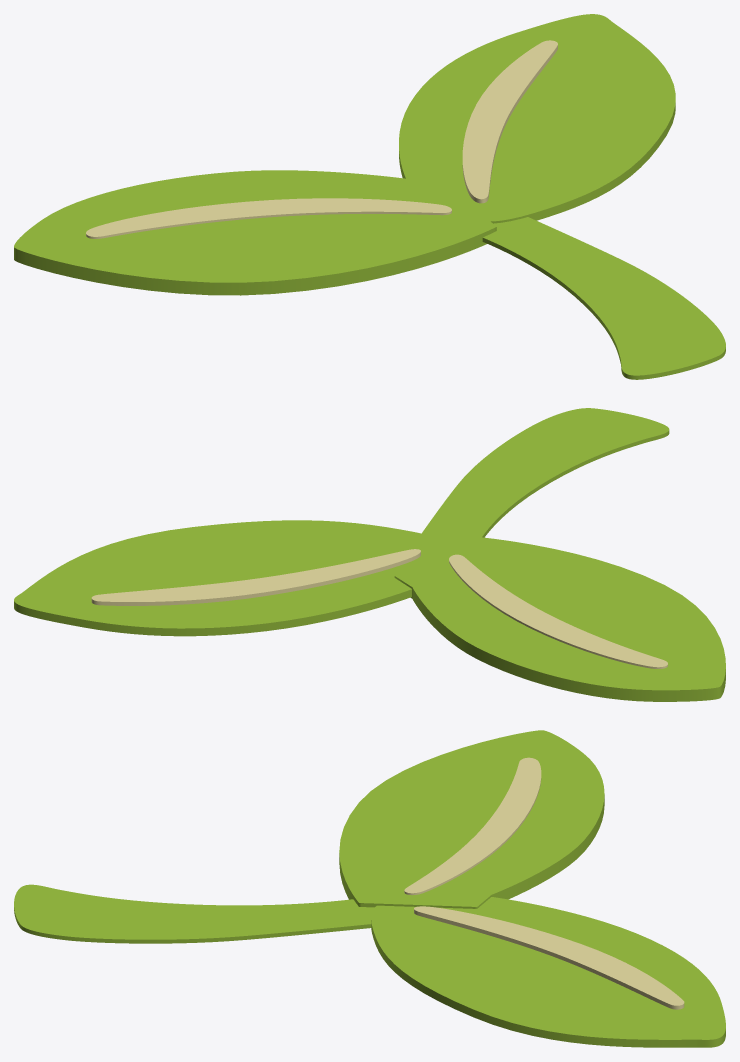
The model's file is emoji_u1f331.glb.
The picture shows the model from 3 angles, top to bottom: view 1: azimuth 30°, elevation 25°; view 2: azimuth 150°, elevation 25°; view 3: azimuth 270°, elevation 25°; orthographic projection. The views are drawn at different scales.
Visible parts, largest first — view 1: emoji_u1f331; view 2: emoji_u1f331; view 3: emoji_u1f331.
Part boxes in pixels (x1,y1,x2,y2): emoji_u1f331: (14,14,725,379); emoji_u1f331: (14,408,725,701); emoji_u1f331: (14,730,725,1047).
Bounding box in the file's own units: 0.0336 × 0.0008 × 0.0329.
